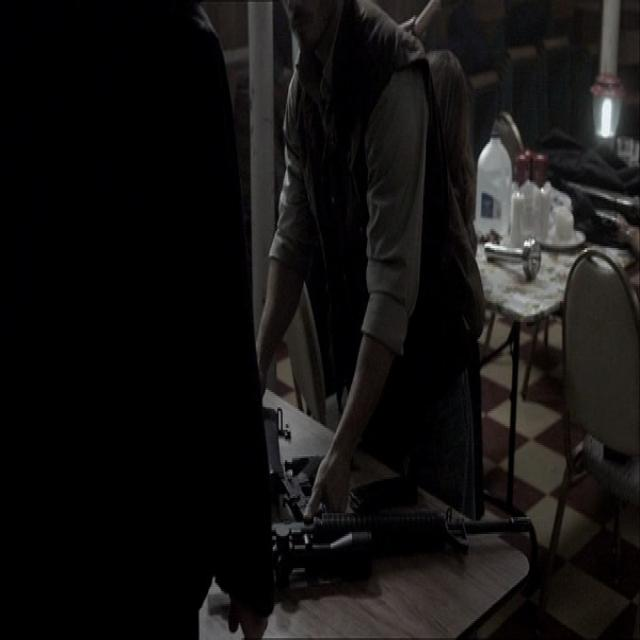rifle: (272, 511, 546, 590)
